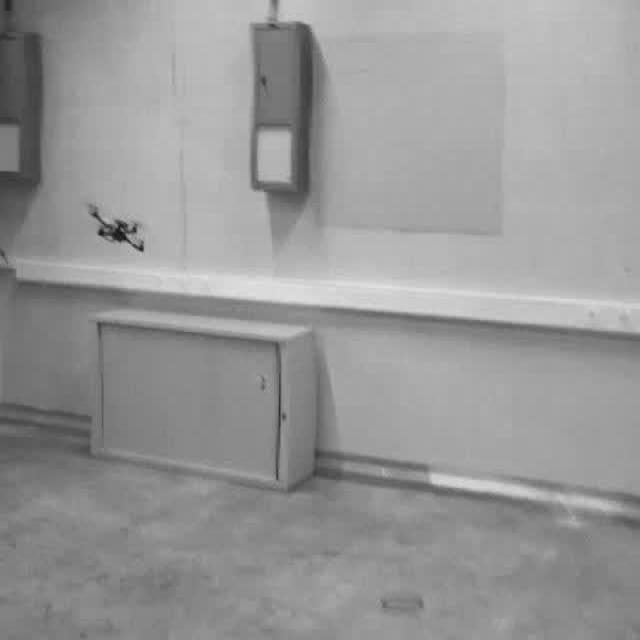drone: (80, 199, 148, 253)
